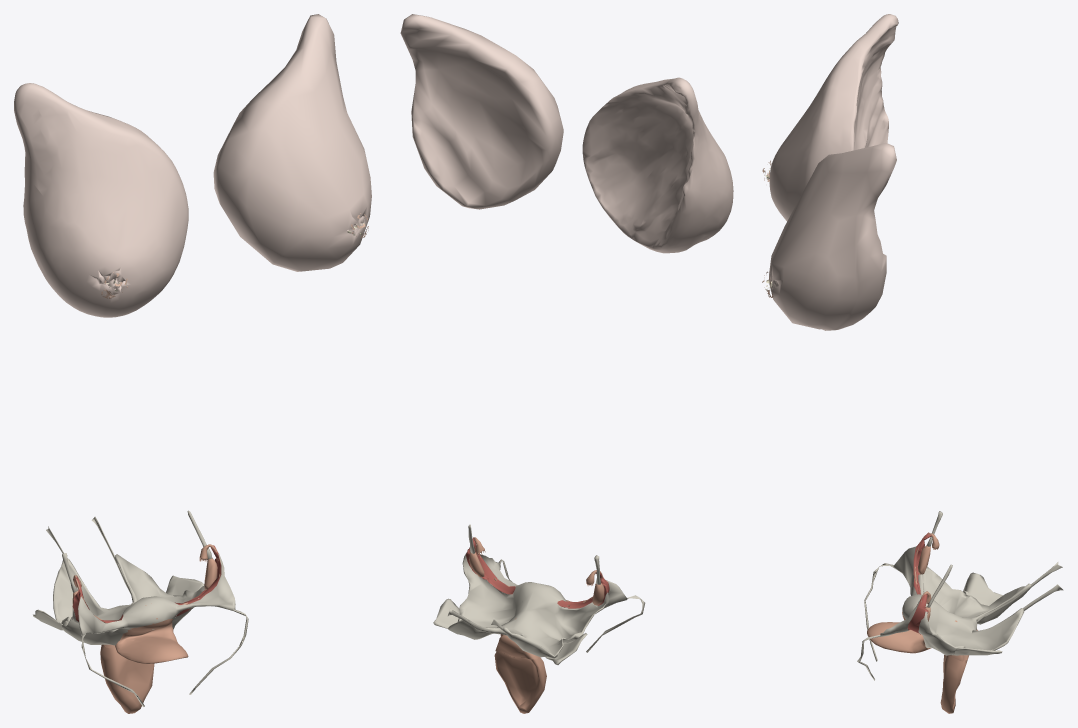
Rendered from adult_female.reproductive.LOD3.glb.
3 renders of one model, left to right at view 1: azimuth 30°, elevation 25°; view 2: azimuth 150°, elevation 25°; view 3: azimuth 270°, elevation 25°, orthographic. The views are drawn at different scales.
Visible parts, largest first — view 1: ADULT.FEMALE.REPRODUCTIVE.MAMMARY_FAT.R, ADULT.FEMALE.REPRODUCTIVE.MAMMARY_FAT.L, ADULT.FEMALE.REPRODUCTIVE.BROAD_LIGAMENT, ADULT.FEMALE.REPRODUCTIVE.VAGINA, ADULT.FEMALE.REPRODUCTIVE.UTEROVESICAL_POUCH; view 2: ADULT.FEMALE.REPRODUCTIVE.MAMMARY_FAT.L, ADULT.FEMALE.REPRODUCTIVE.MAMMARY_FAT.R, ADULT.FEMALE.REPRODUCTIVE.BROAD_LIGAMENT, ADULT.FEMALE.REPRODUCTIVE.VAGINA; view 3: ADULT.FEMALE.REPRODUCTIVE.MAMMARY_FAT.L, ADULT.FEMALE.REPRODUCTIVE.MAMMARY_FAT.R, ADULT.FEMALE.REPRODUCTIVE.BROAD_LIGAMENT, ADULT.FEMALE.REPRODUCTIVE.UTEROVESICAL_POUCH, ADULT.FEMALE.REPRODUCTIVE.VAGINA, ADULT.FEMALE.REPRODUCTIVE.CARDINAL_LIGAMENT_OF_UTERUS.R.
Boxes of the visible parts, x1,y1,x2,y2 form: ADULT.FEMALE.REPRODUCTIVE.MAMMARY_FAT.R: (14, 83, 188, 317); ADULT.FEMALE.REPRODUCTIVE.MAMMARY_FAT.L: (213, 14, 371, 271); ADULT.FEMALE.REPRODUCTIVE.BROAD_LIGAMENT: (53, 552, 235, 645); ADULT.FEMALE.REPRODUCTIVE.VAGINA: (100, 644, 154, 713); ADULT.FEMALE.REPRODUCTIVE.UTEROVESICAL_POUCH: (115, 619, 188, 663); ADULT.FEMALE.REPRODUCTIVE.MAMMARY_FAT.L: (400, 14, 563, 209); ADULT.FEMALE.REPRODUCTIVE.MAMMARY_FAT.R: (582, 77, 733, 253); ADULT.FEMALE.REPRODUCTIVE.BROAD_LIGAMENT: (448, 552, 627, 658); ADULT.FEMALE.REPRODUCTIVE.VAGINA: (494, 651, 546, 713); ADULT.FEMALE.REPRODUCTIVE.MAMMARY_FAT.L: (769, 142, 896, 330); ADULT.FEMALE.REPRODUCTIVE.MAMMARY_FAT.R: (769, 14, 898, 221); ADULT.FEMALE.REPRODUCTIVE.BROAD_LIGAMENT: (880, 546, 1030, 655); ADULT.FEMALE.REPRODUCTIVE.UTEROVESICAL_POUCH: (867, 612, 931, 653); ADULT.FEMALE.REPRODUCTIVE.VAGINA: (940, 655, 967, 713); ADULT.FEMALE.REPRODUCTIVE.CARDINAL_LIGAMENT_OF_UTERUS.R: (963, 572, 1002, 605).
Bounding box in the file's own units: 0.2892 × 0.5807 × 0.2494.
